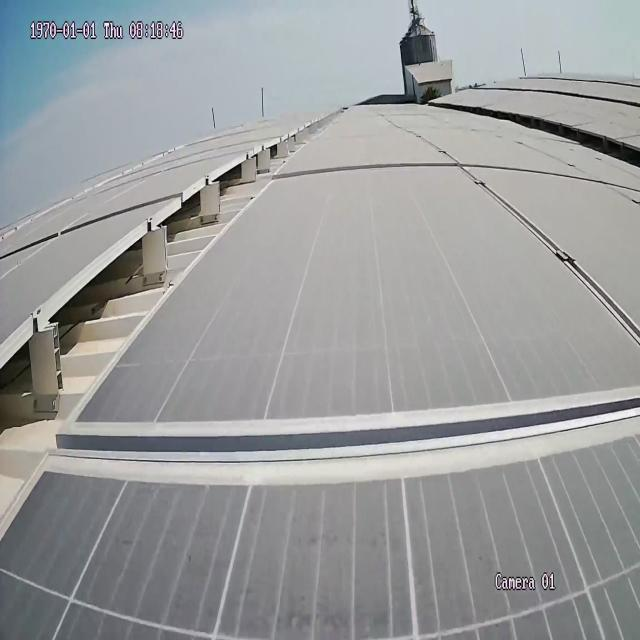interior panel: (57, 382, 640, 480), (422, 145, 638, 343)
outher panel: (2, 114, 340, 518), (465, 105, 637, 171)
